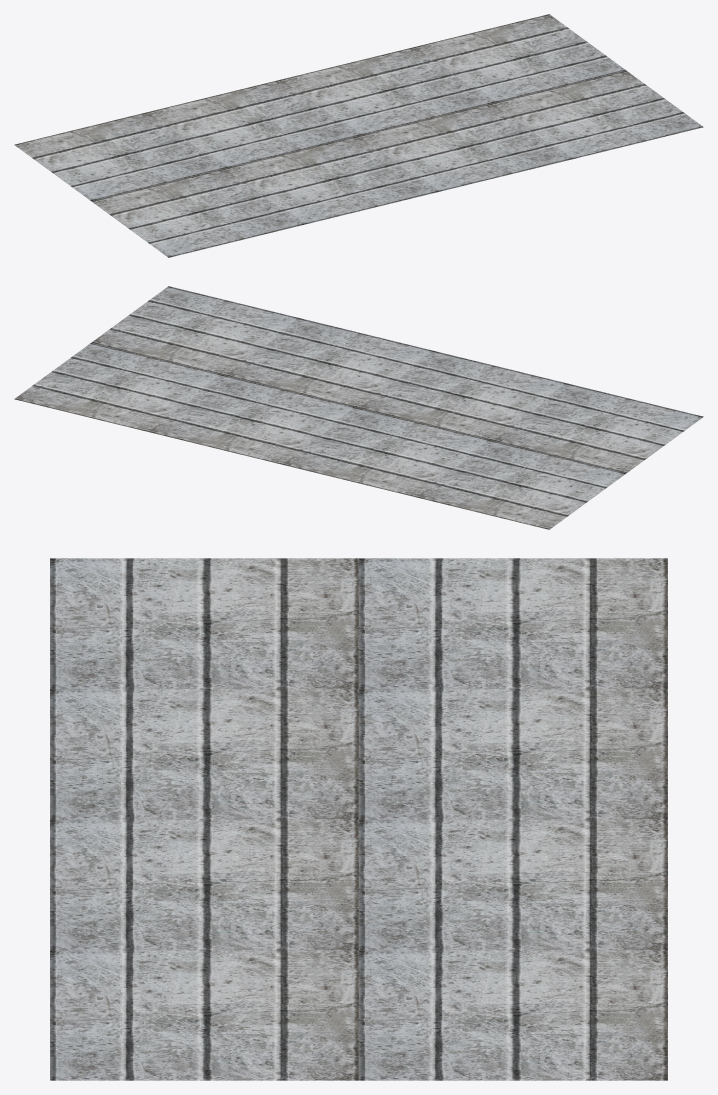
Rendered from ground_texture.glb.
3 views of the same model, one above another, from view 1: azimuth 30°, elevation 25°; view 2: azimuth 150°, elevation 25°; view 3: azimuth 270°, elevation 25° (orthographic). The views are drawn at different scales.
Parts seen in each view (by area): view 1: Plane, Plane.004, Plane.002, Plane.006, Plane.003, Plane.007, Plane.001, Plane.005; view 2: Plane.003, Plane.007, Plane.001, Plane.005, Plane, Plane.004, Plane.002, Plane.006; view 3: Plane, Plane.001, Plane.002, Plane.003, Plane.004, Plane.005, Plane.006, Plane.007.
Boxes of the visible parts, x1,y1,x2,y2 form: Plane: (92,168,301,257); Plane.004: (416,14,625,103); Plane.002: (359,103,569,192); Plane.006: (148,79,358,168); Plane.003: (493,70,703,159); Plane.007: (14,112,224,201); Plane.001: (225,136,435,224); Plane.005: (282,47,492,135); Plane.003: (92,286,301,375); Plane.007: (416,440,625,529); Plane.001: (359,351,569,440); Plane.005: (148,375,358,464); Plane: (493,384,703,473); Plane.004: (14,342,224,431); Plane.002: (225,319,435,407); Plane.006: (282,408,492,496); Plane: (50,558,358,688); Plane.001: (50,689,358,819); Plane.002: (50,819,358,949); Plane.003: (50,950,358,1080); Plane.004: (359,950,667,1080); Plane.005: (359,819,667,949); Plane.006: (359,689,667,819); Plane.007: (359,558,667,688).
Size of the model in its own units: 8 by 8.88e-16 by 4.
1 material, 1 textured.
